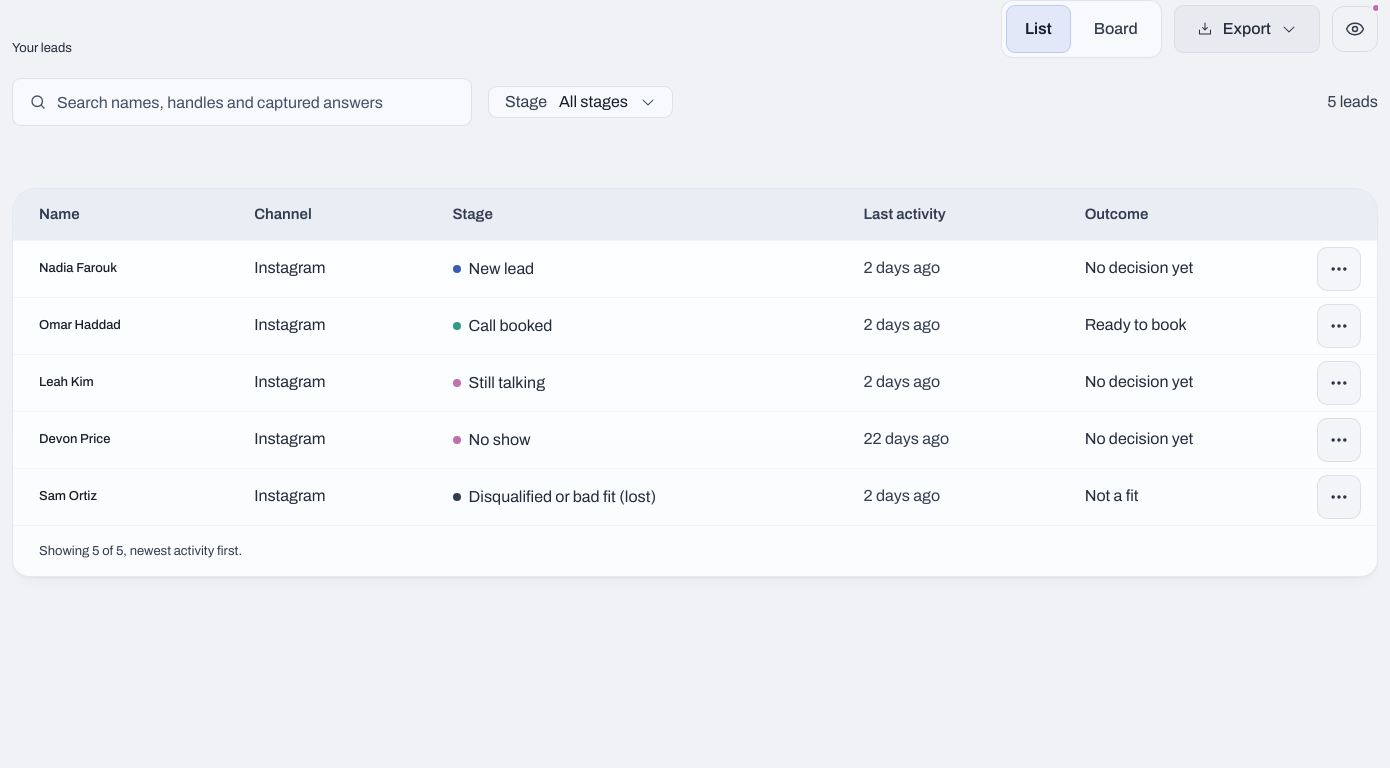
Test: the list › opens the conversation from the name and offers the two requests behind one menu
The width and height of the screenshot is (1390, 768).
Click the button named "More for Nadia Farouk" at (1339, 268), box [1317,246,1361,290]
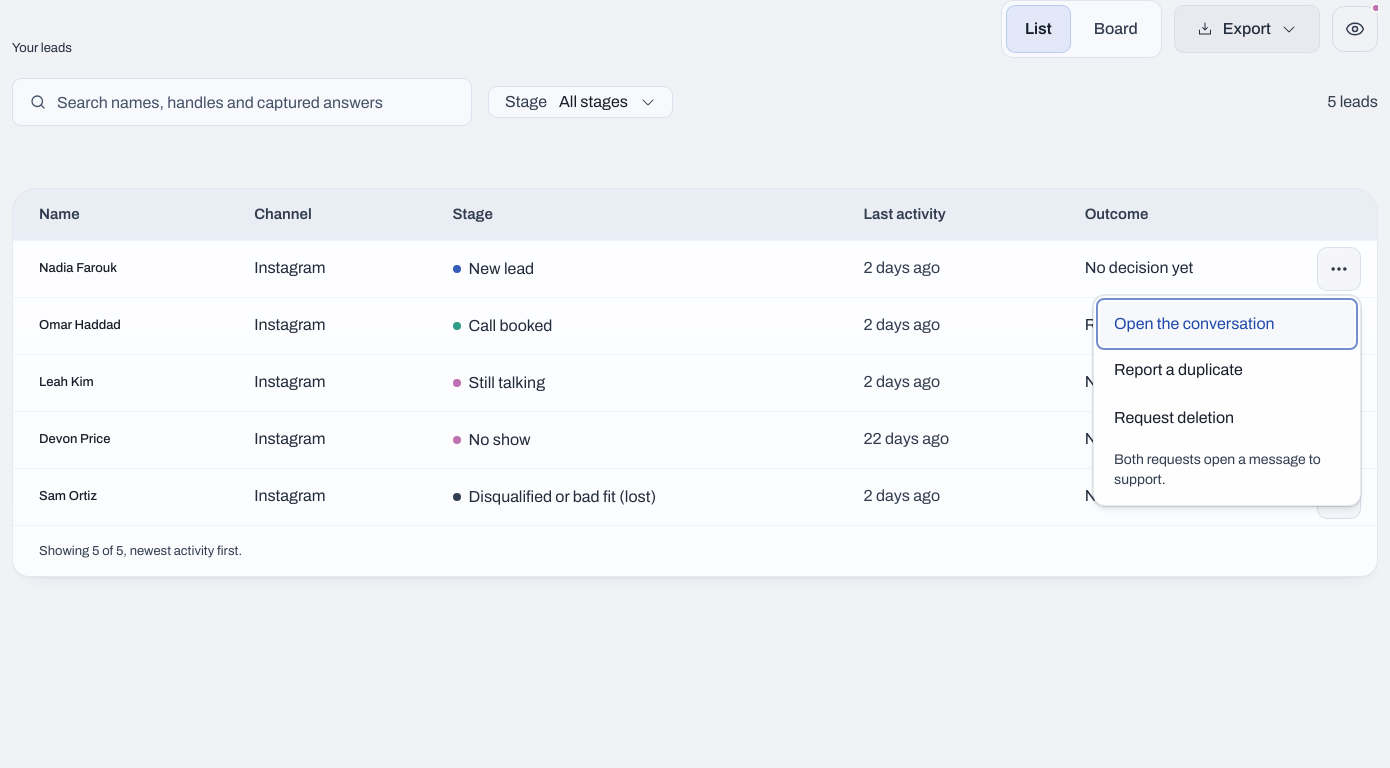
Now the menu item "Open the conversation" is shown, box [1100,302,1354,346]
Now the menu item "Report a duplicate" is shown, box [1114,361,1243,378]
Now the menu item "Request deletion" is shown, box [1114,409,1234,426]
